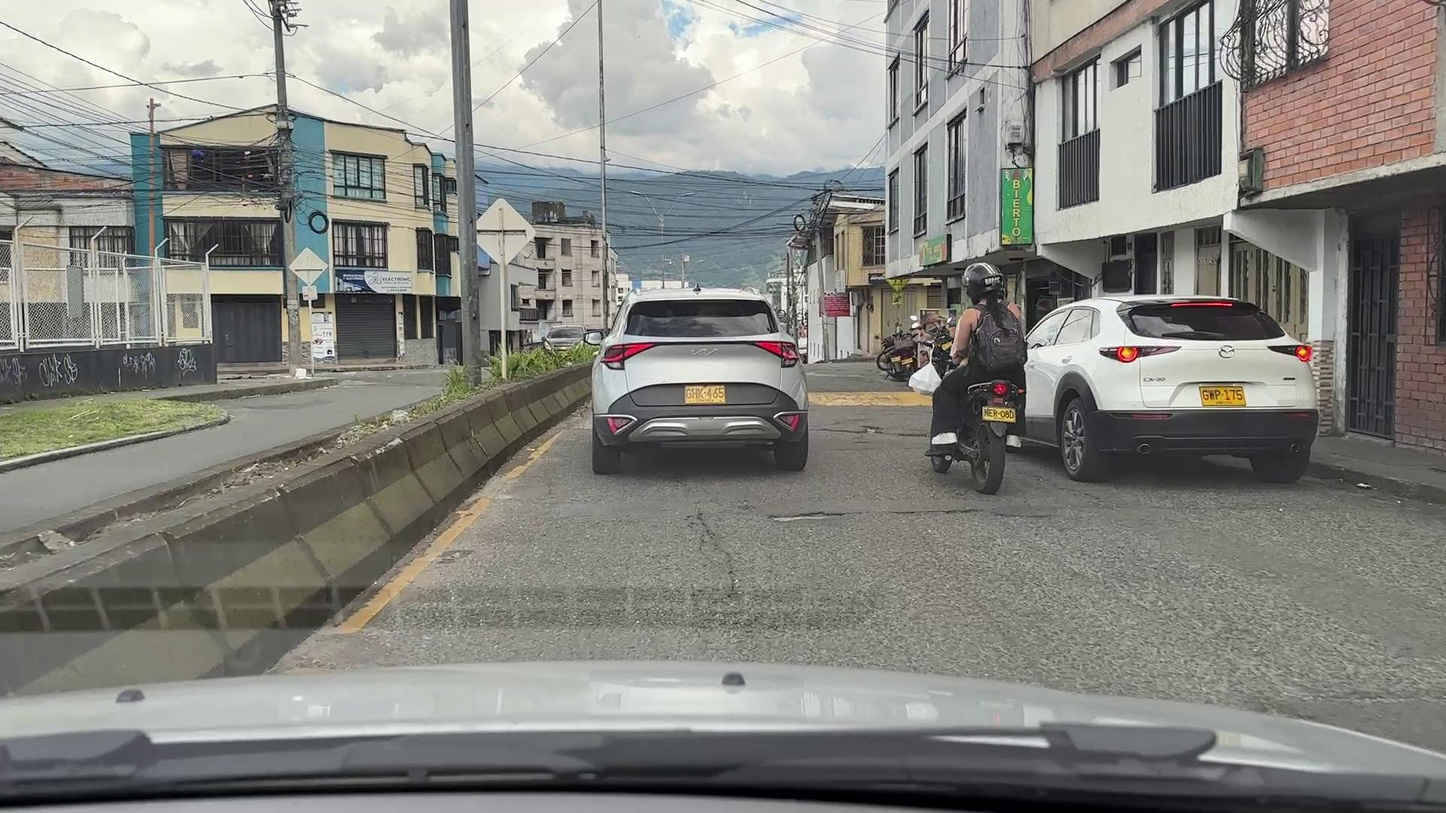bache: (770, 512, 868, 521), (823, 426, 888, 434)
grieta: (889, 509, 980, 514)
